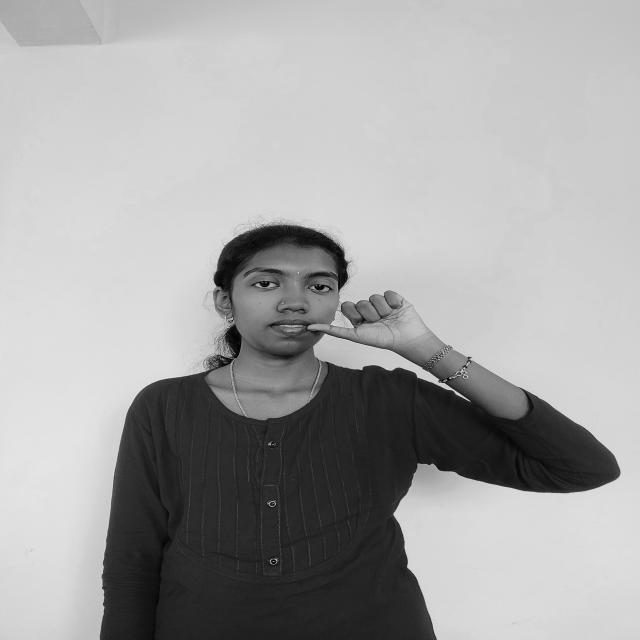Drink: (302, 288, 438, 357)
